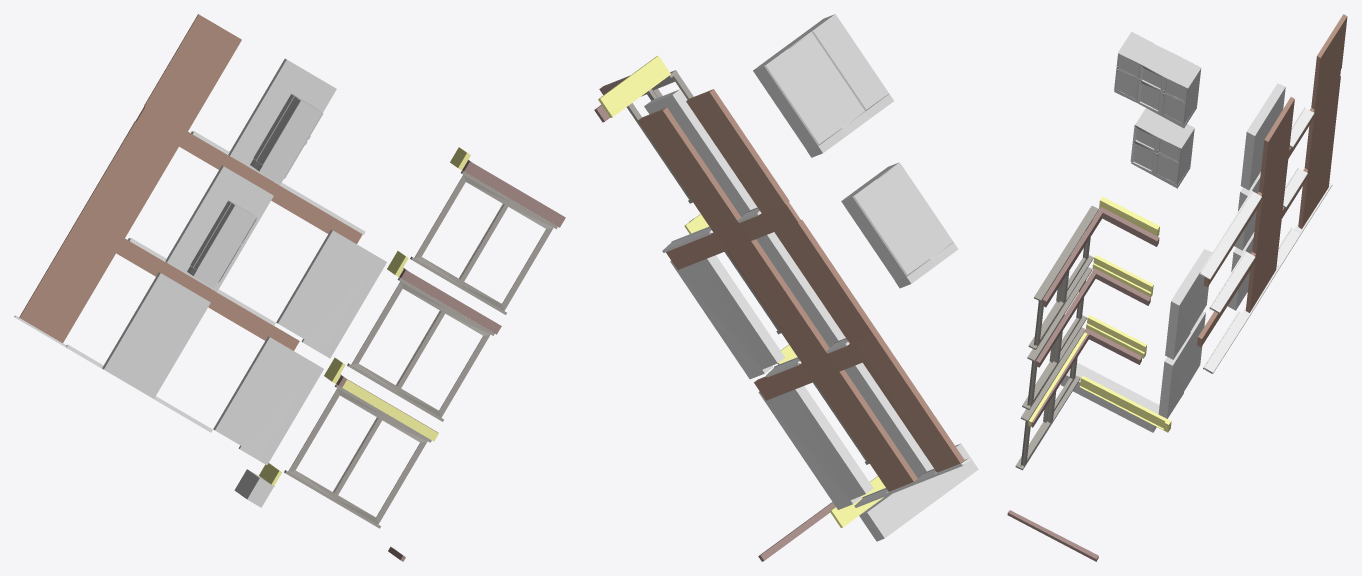
3 views of the same model, side by side, from view 1: azimuth 30°, elevation 25°; view 2: azimuth 150°, elevation 25°; view 3: azimuth 270°, elevation 25° (orthographic). The views are drawn at different scales.
Visible parts, largest first — view 1: mesh; view 2: mesh; view 3: mesh.
Part boxes in pixels (x1,y1,x2,y2): mesh: (14, 14, 565, 561); mesh: (594, 14, 978, 561); mesh: (1007, 14, 1347, 561).
Bounding box in the file's own units: 11.76 × 12.65 × 7.68.
